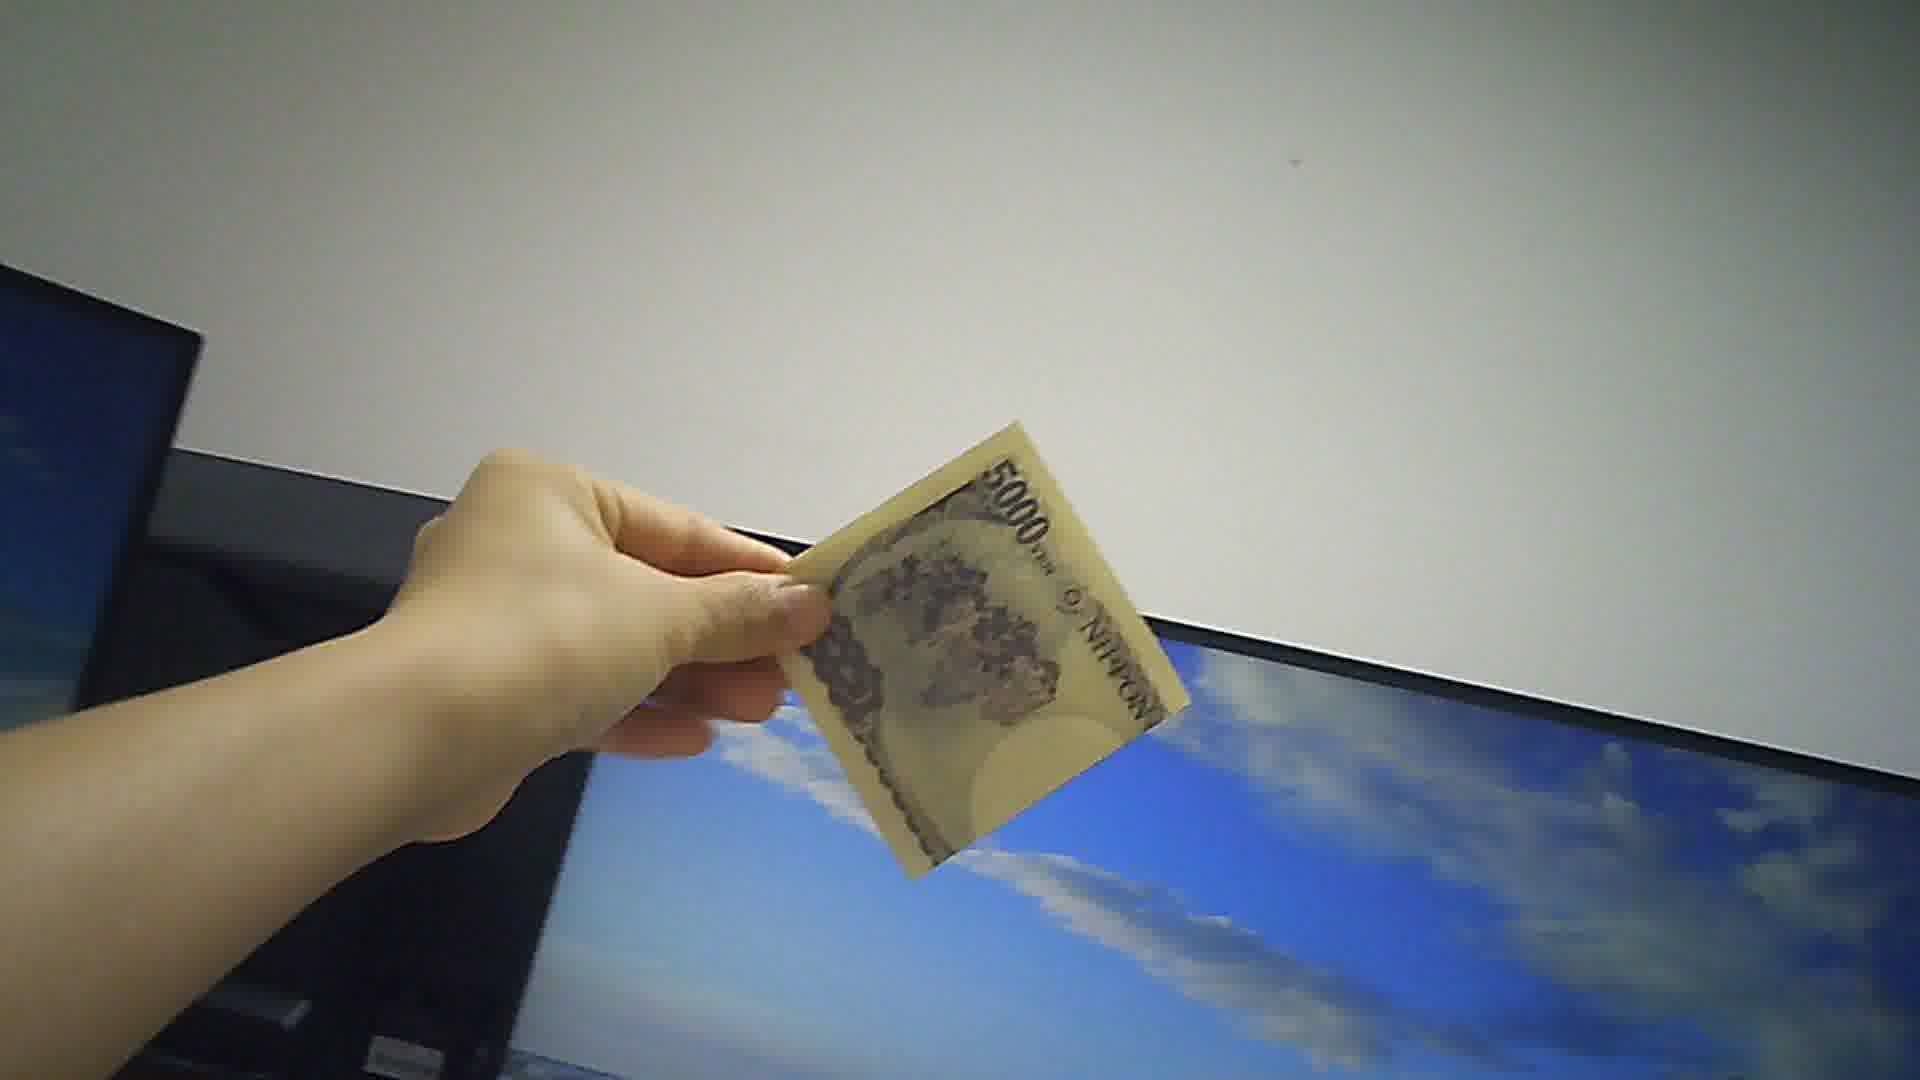5,000 Yen: (753, 421, 1205, 874)
